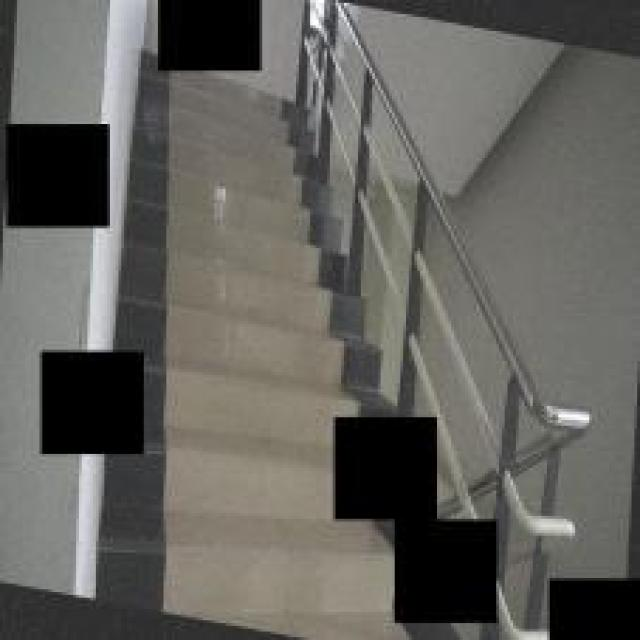upstair: (145, 136, 314, 407)
